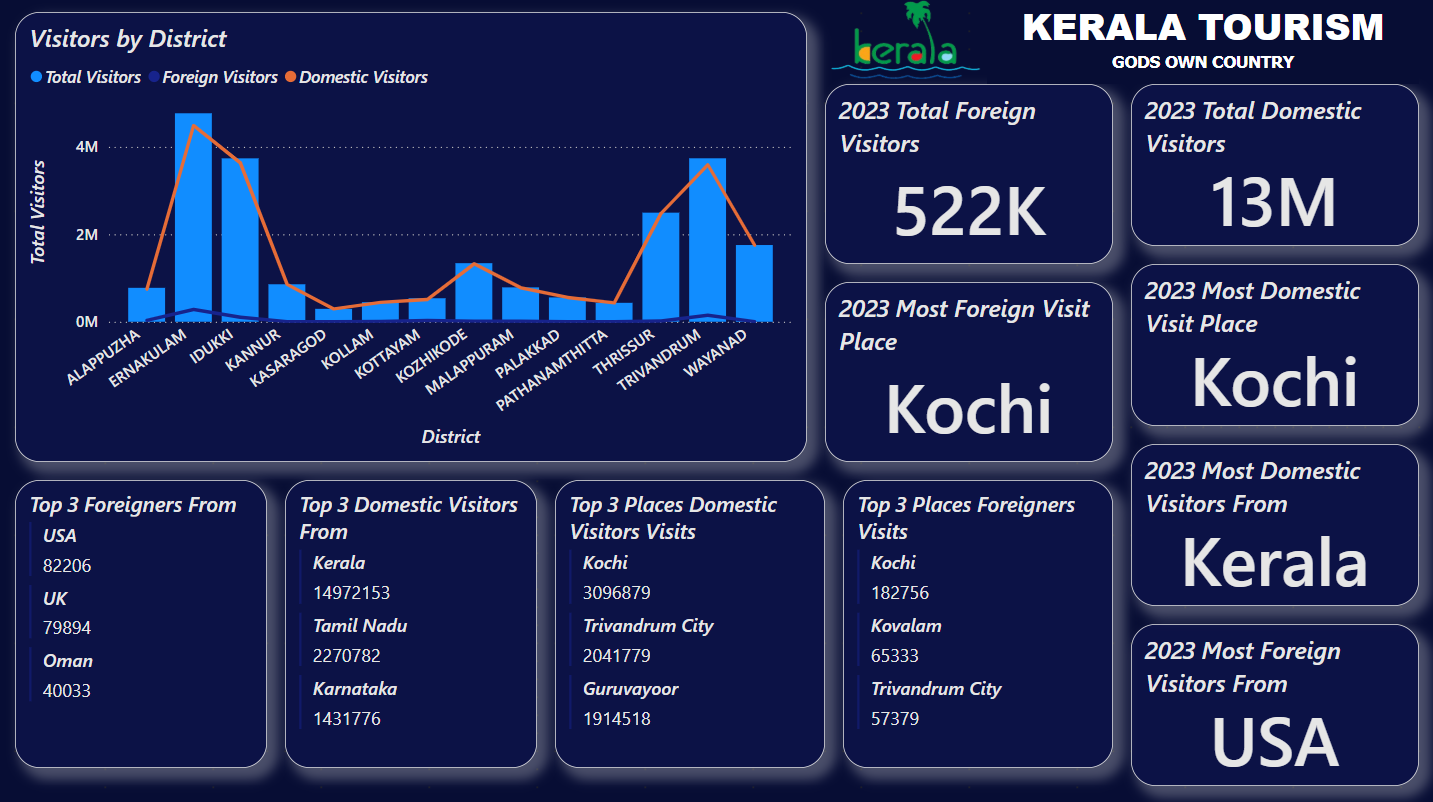

What the dashboard file says about the page in this screenshot:
{"tool":"powerbi","page":{"name":"Landing Page","canvas":[1280,720],"ordinal":0},"visuals":[{"type":"lineStackedColumnComboChart","title":"Visitors by District","fields":{"Y2":["Sum(District Visit.FTV)","Sum(District Visit.DTV)"],"Y":["Sum(District Visit.Total)"],"Category":["District Visit.District"]},"box":[16,16,704,384],"z":0},{"type":"card","title":"2023 Total Foreign Visitors","fields":{"Values":["Sum(Foreign Visits.FTV 2023)"]},"box":[736,80,256,144],"z":1000},{"type":"card","title":"2023 Total Domestic Visitors","fields":{"Values":["Sum(Domastic Visits.DTV 2023)"]},"box":[1008,80,256,144],"z":2000},{"type":"card","title":"2023 Most Foreign Visit Place","fields":{"Values":["Min(Foreign Visits.Destinations)"]},"box":[736,240,256,144],"z":3000},{"type":"card","title":"2023 Most Domestic Visit Place","fields":{"Values":["Min(Domastic Visits.Destinations)"]},"box":[1008,240,256,144],"z":4000},{"type":"card","title":"2023 Most Foreign Visitors From","fields":{"Values":["Min(Foreign Visiters.Country)"]},"box":[1008,560,256,144],"z":5000},{"type":"card","title":"2023 Most Domestic Visitors From","fields":{"Values":["Min(Domastic Visiters.State)"]},"box":[1008,400,256,144],"z":6000},{"type":"multiRowCard","title":"Top 3 Foreigners From","fields":{"Values":["Foreign Visiters.Country","Sum(Foreign Visiters.FTV)"]},"box":[16,416,224,288],"z":7000},{"type":"multiRowCard","title":"Top 3 Domestic Visitors From","fields":{"Values":["Domastic Visiters.State","Sum(Domastic Visiters.DTV 2023)"]},"box":[256,416,224,288],"z":8000},{"type":"multiRowCard","title":"Top 3 Places Domestic Visitors Visits","fields":{"Values":["Domastic Visits.Destinations","Sum(Domastic Visits.DTV 2023)"]},"box":[496,416,240,288],"z":9000},{"type":"multiRowCard","title":"Top 3 Places Foreigners Visits","fields":{"Values":["Foreign Visits.Destinations","Sum(Foreign Visits.FTV 2023)"]},"box":[752,416,240,288],"z":10000},{"type":"image","box":[736,0,144,80],"z":11000},{"type":"textbox","box":[880,0,384,80],"z":12000}]}

Visuals, with their boxes in screenshot pixels (x1, y1, x2, y2), scaled from the page's 1280x720 canvas onto the 1433x802 screenshot:
"Visitors by District" lineStackedColumnComboChart: bbox=[18, 18, 806, 446]
"2023 Total Foreign Visitors" card: bbox=[824, 89, 1111, 250]
"2023 Total Domestic Visitors" card: bbox=[1128, 89, 1415, 250]
"2023 Most Foreign Visit Place" card: bbox=[824, 267, 1111, 428]
"2023 Most Domestic Visit Place" card: bbox=[1128, 267, 1415, 428]
"2023 Most Foreign Visitors From" card: bbox=[1128, 624, 1415, 784]
"2023 Most Domestic Visitors From" card: bbox=[1128, 446, 1415, 606]
"Top 3 Foreigners From" multiRowCard: bbox=[18, 463, 269, 784]
"Top 3 Domestic Visitors From" multiRowCard: bbox=[287, 463, 537, 784]
"Top 3 Places Domestic Visitors Visits" multiRowCard: bbox=[555, 463, 824, 784]
"Top 3 Places Foreigners Visits" multiRowCard: bbox=[842, 463, 1111, 784]
image: bbox=[824, 0, 985, 89]
textbox: bbox=[985, 0, 1415, 89]
